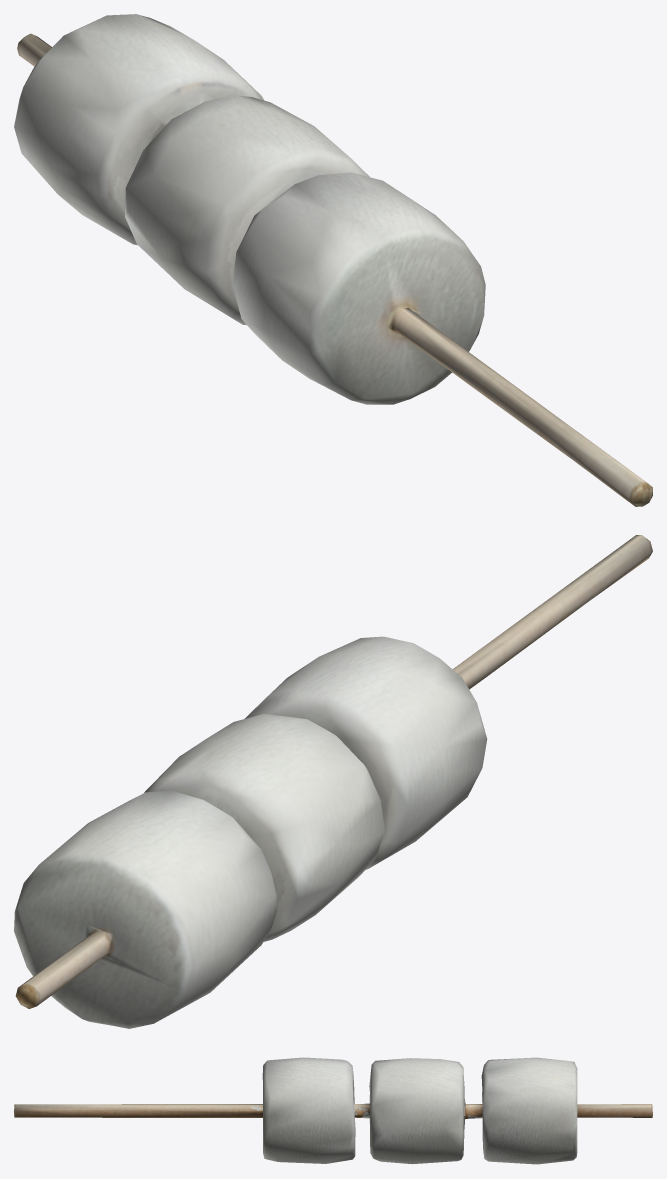
The model's file is Food_Marshmallow.fbx.
3 views of the same model, one above another, from view 1: azimuth 30°, elevation 25°; view 2: azimuth 150°, elevation 25°; view 3: azimuth 270°, elevation 25° (orthographic). The views are drawn at different scales.
Parts seen in each view (by area): view 1: Food_Marshmallow; view 2: Food_Marshmallow; view 3: Food_Marshmallow.
Boxes of the visible parts, x1,y1,x2,y2 form: Food_Marshmallow: (14,14,652,506); Food_Marshmallow: (14,535,652,1028); Food_Marshmallow: (14,1057,652,1164).
Size of the model in its own units: 0.0454 by 0.0432 by 0.26.
1 material, 1 textured.
